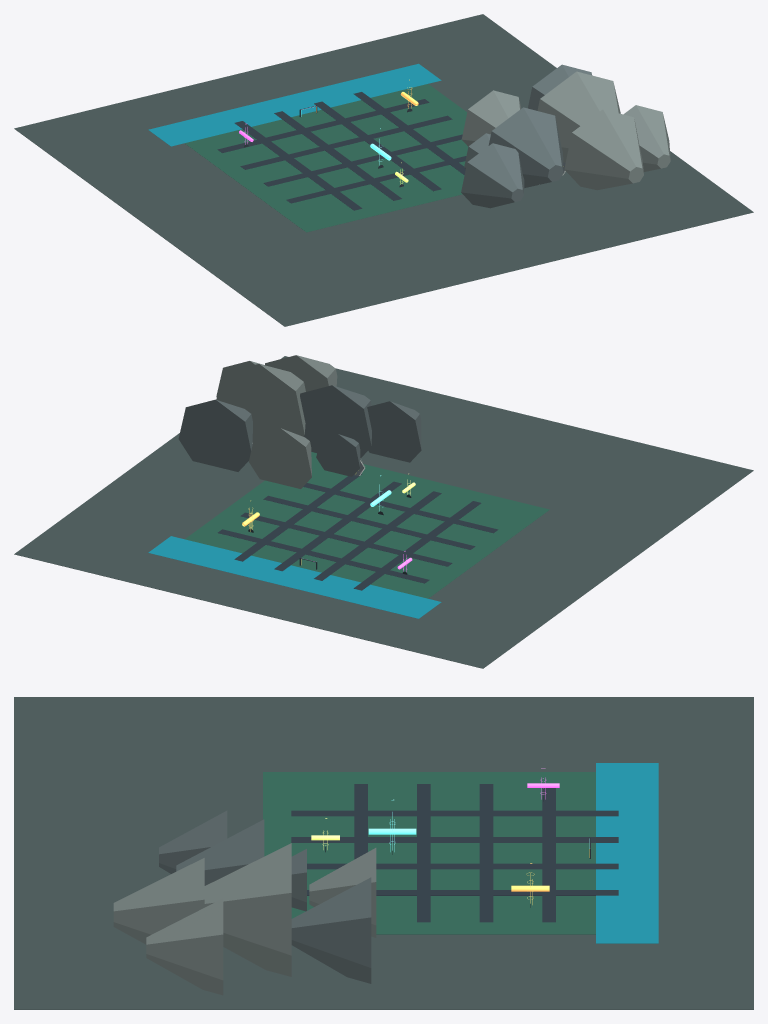
Rendered from aurora_bay_environment.glb.
3 renders of one model, top to bottom at view 1: azimuth 30°, elevation 25°; view 2: azimuth 150°, elevation 25°; view 3: azimuth 270°, elevation 25°, orthographic. The views are drawn at different scales.
Parts seen in each view (by area): view 1: mountain extension ground, ground plane, waterfront, mountain ridge 07, mountain ridge 00, mountain ridge 01, mountain ridge 04, mountain ridge 05, mountain ridge 03, horizontal asphalt road.001, horizontal asphalt road, vertical asphalt road (+6 smaller); view 2: mountain extension ground, ground plane, waterfront, mountain ridge 01, mountain ridge 02, mountain ridge 00, mountain ridge 03, mountain ridge 04, mountain ridge 06, mountain ridge 07, horizontal asphalt road, vertical asphalt road.001 (+6 smaller); view 3: mountain extension ground, ground plane, waterfront, mountain ridge 01, mountain ridge 02, mountain ridge 05, mountain ridge 07, mountain ridge 00, vertical asphalt road, mountain ridge 03, horizontal asphalt road.001, mountain ridge 04 (+7 smaller).
Boxes of the visible parts, x1,y1,x2,y2 form: mountain extension ground: (14,14,753,326); ground plane: (185,84,468,232); waterfront: (148,63,441,146); mountain ridge 07: (564,109,643,190); mountain ridge 00: (488,107,563,187); mountain ridge 01: (537,71,620,162); mountain ridge 04: (461,143,524,208); mountain ridge 05: (623,105,670,171); mountain ridge 03: (461,90,521,146); horizontal asphalt road.001: (240,115,452,169); horizontal asphalt road: (217,99,429,152); vertical asphalt road: (234,121,362,210); mountain extension ground: (14,356,753,668); ground plane: (185,452,549,598); waterfront: (148,536,441,618); mountain ridge 01: (216,364,305,442); mountain ridge 02: (178,399,252,471); mountain ridge 00: (300,385,371,458); mountain ridge 03: (249,428,311,488); mountain ridge 04: (367,401,421,462); mountain ridge 06: (316,434,360,476); mountain ridge 07: (265,355,337,391); horizontal asphalt road: (217,529,429,583); vertical asphalt road.001: (314,491,441,580); mountain extension ground: (14,697,753,1009); ground plane: (263,772,595,934); waterfront: (596,763,658,943); mountain ridge 01: (204,843,291,976); mountain ridge 02: (291,877,371,983); mountain ridge 05: (146,898,223,995); mountain ridge 07: (113,858,204,944); mountain ridge 00: (176,819,264,885); vertical asphalt road: (291,810,618,816); mountain ridge 03: (309,848,376,937); horizontal asphalt road.001: (479,784,493,922); mountain ridge 04: (159,810,227,873).
Size of the model in its own units: 520 by 99.54 by 520.
